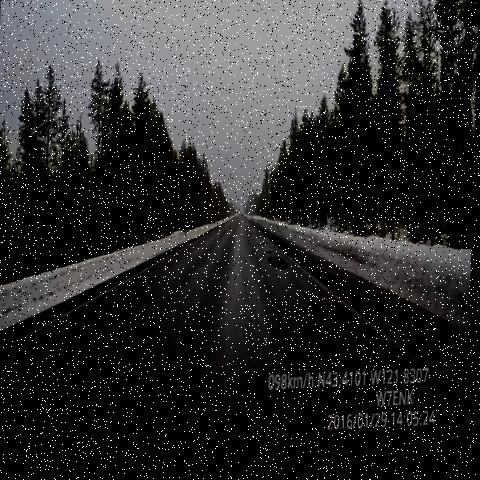pothole: (266, 256, 294, 274), (256, 236, 273, 255), (263, 246, 277, 260)
